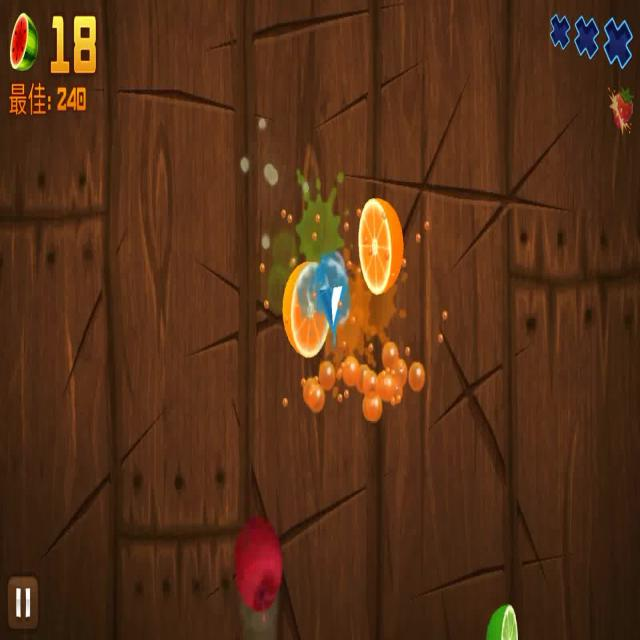fruit: (276, 262, 340, 360), (236, 510, 284, 616), (358, 197, 406, 301), (483, 602, 528, 640)
